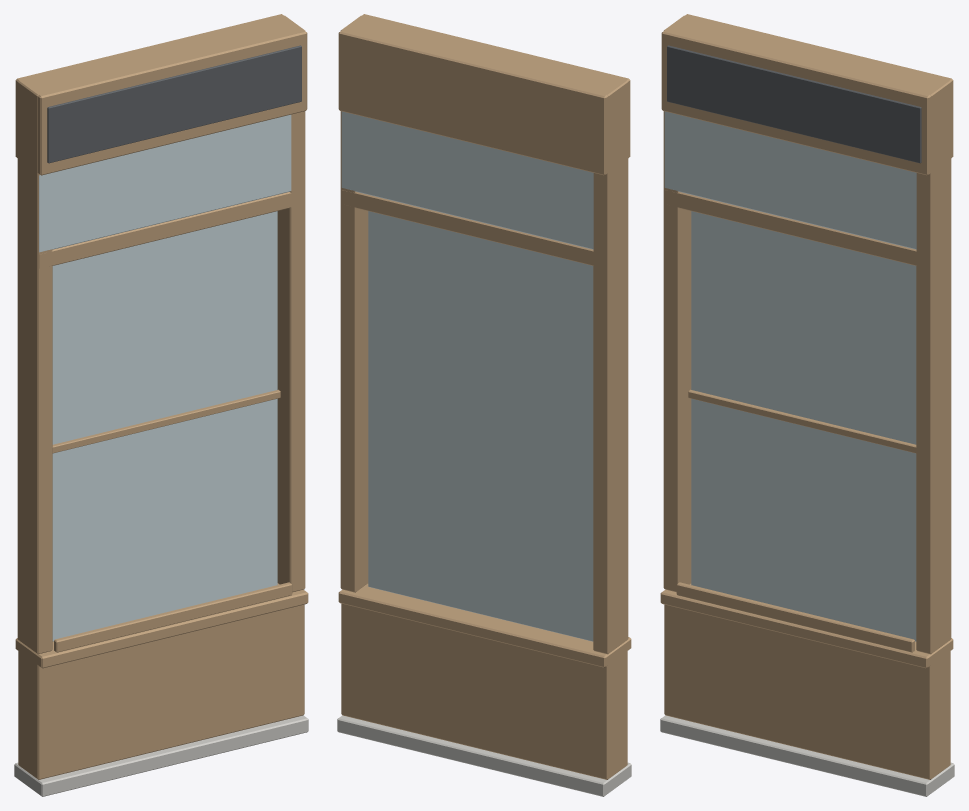
File: packed.glb
3 renders of one model, left to right at view 1: azimuth 30°, elevation 25°; view 2: azimuth 150°, elevation 25°; view 3: azimuth 330°, elevation 25°, orthographic.
Visible parts, largest first — view 1: shopfront-window-module; view 2: shopfront-window-module; view 3: shopfront-window-module.
Boxes of the visible parts, x1=… form: shopfront-window-module: x1=14, y1=14, x2=308, y2=796; shopfront-window-module: x1=337, y1=14, x2=631, y2=796; shopfront-window-module: x1=660, y1=14, x2=954, y2=796.
Bounding box in the file's own units: 1.2 × 3 × 0.22.
